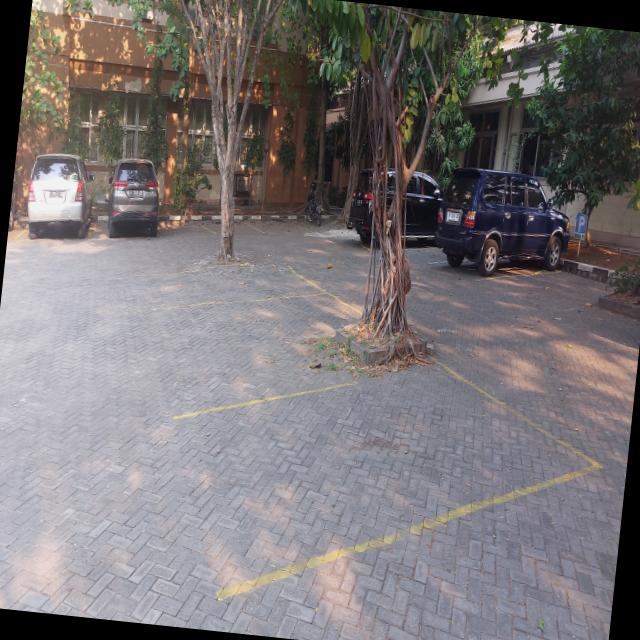car: (427, 170, 569, 281), (15, 155, 91, 239), (89, 159, 157, 235)
free: (173, 364, 598, 596), (139, 293, 366, 345), (130, 260, 328, 310), (475, 271, 620, 313), (156, 217, 214, 234), (193, 220, 264, 233), (240, 220, 310, 232)
